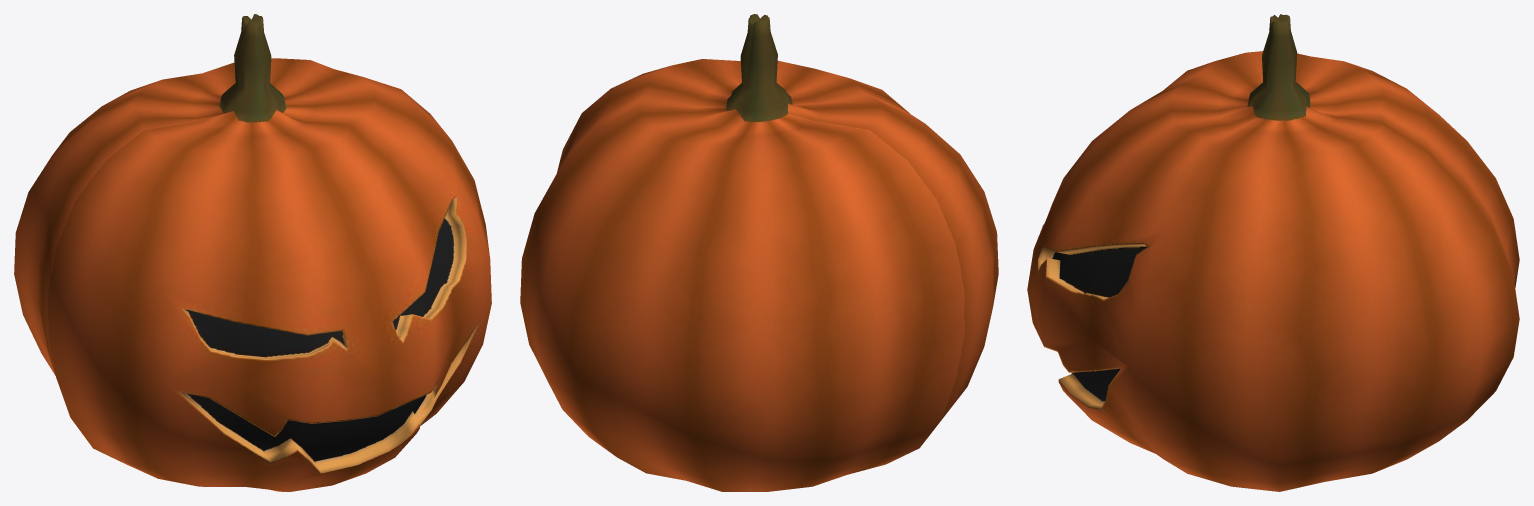
Rendered from building_15.fbx.
3 renders of one model, left to right at view 1: azimuth 30°, elevation 25°; view 2: azimuth 150°, elevation 25°; view 3: azimuth 270°, elevation 25°, orthographic.
Visible parts, largest first — view 1: Sphere.001; view 2: Sphere.001; view 3: Sphere.001.
Boxes of the visible parts, box(x1,y1,x2,y2) form: Sphere.001: box(14, 14, 491, 491); Sphere.001: box(520, 14, 998, 491); Sphere.001: box(1027, 14, 1519, 491).
Bounding box in the file's own units: 959 × 958 × 1004.
